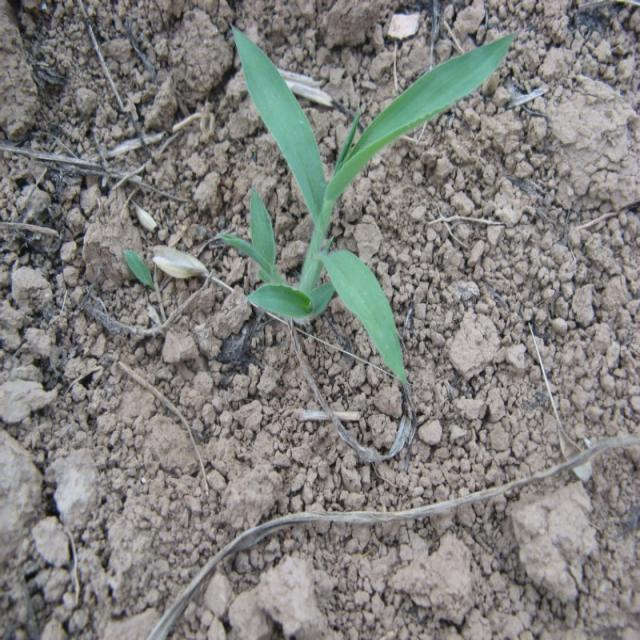bg: (219, 31, 514, 378)
